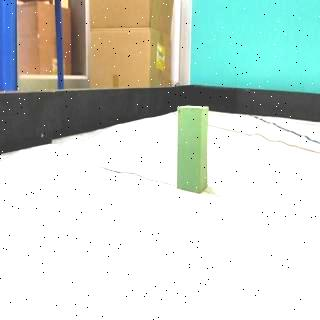greenbox: (176, 104, 210, 194)
